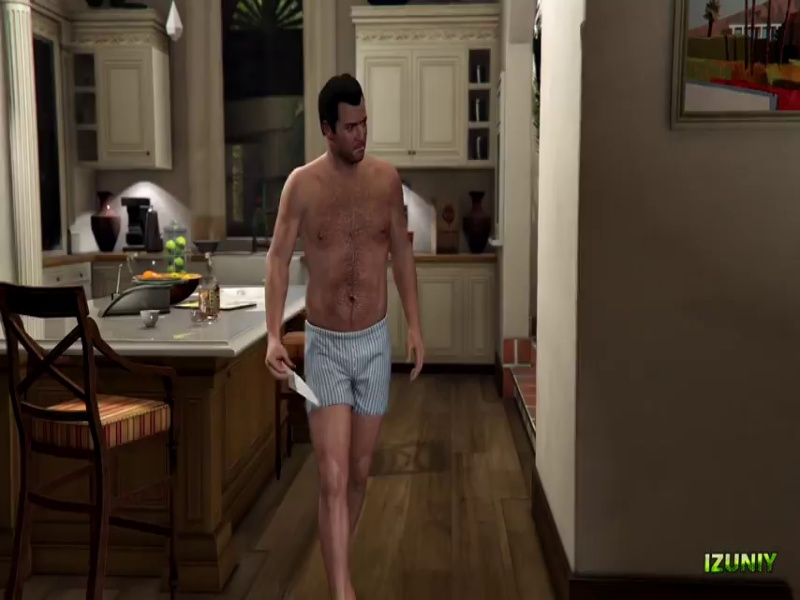human: (267, 71, 423, 587)
